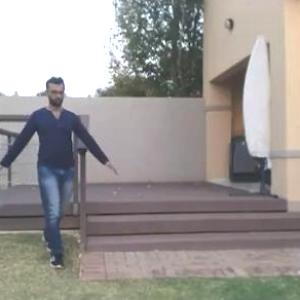land: (0, 77, 120, 270)
